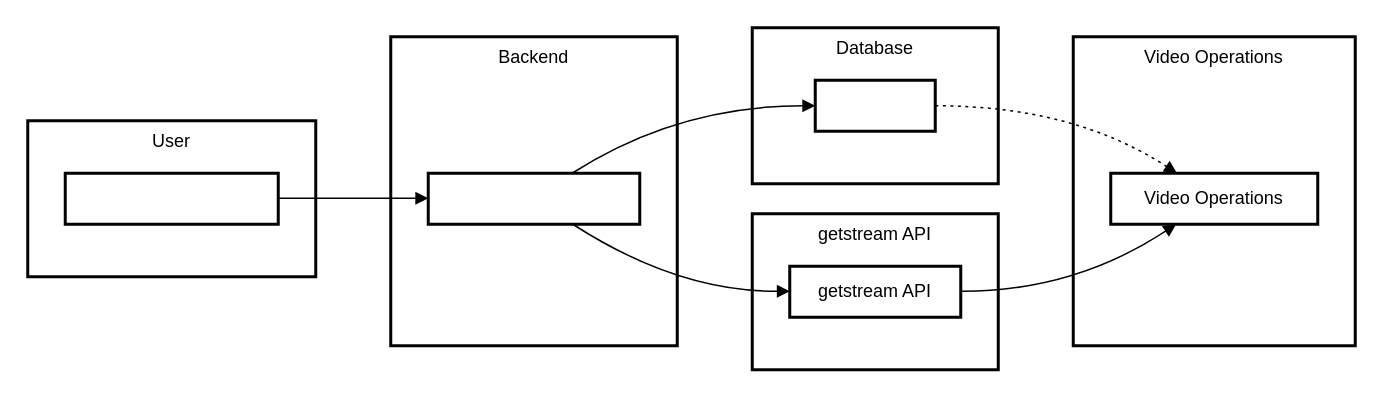
Image size: 1382x396. Some labels were removed from this diagram. Each missing label, with the centre of its shape:
"Frontend: Next.js" belongs at (x=171, y=198).
"MongoDB" belongs at (x=874, y=105).
"Node.js + Express" belongs at (x=533, y=198).
